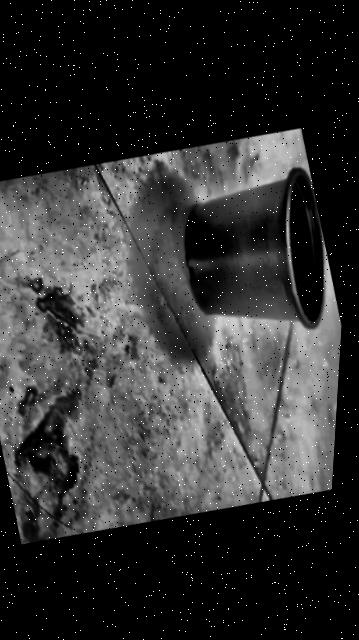pot: (183, 168, 324, 328)
